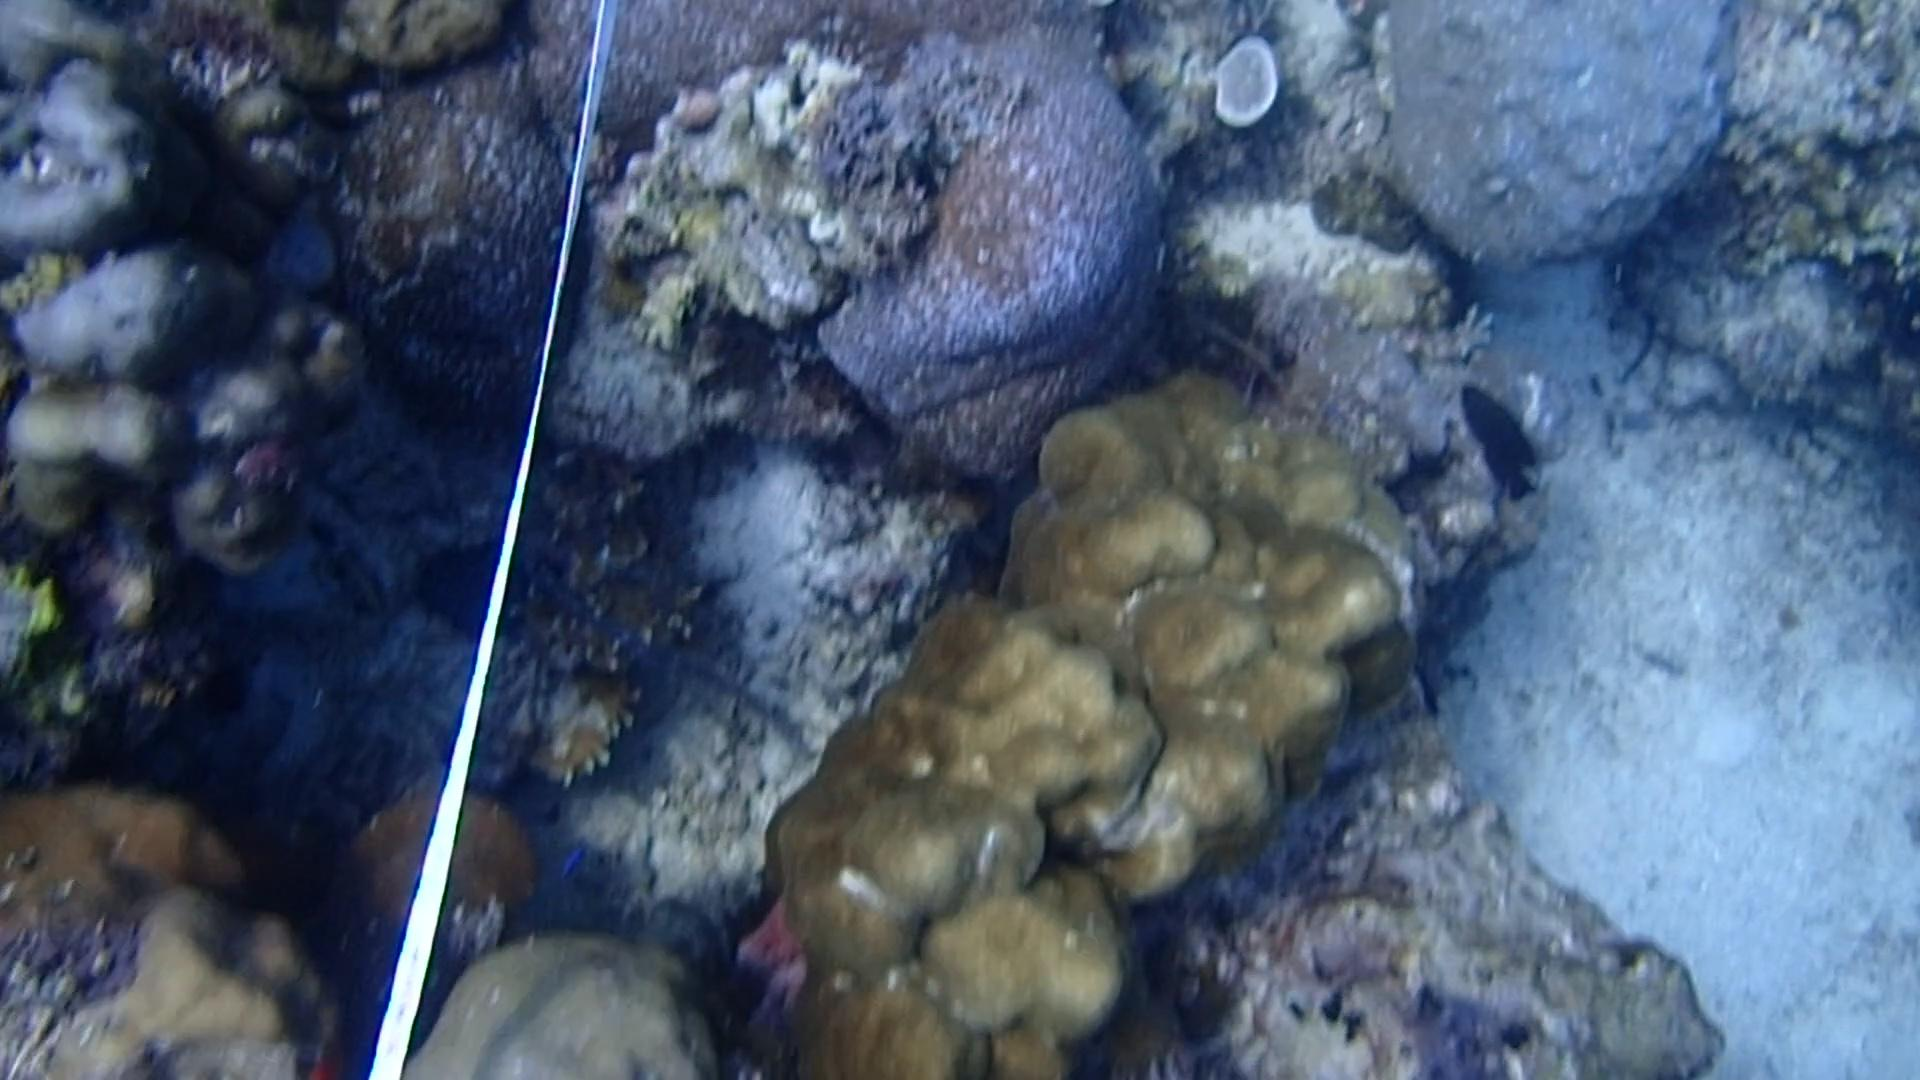Dark Fish: (1458, 376, 1552, 502)
